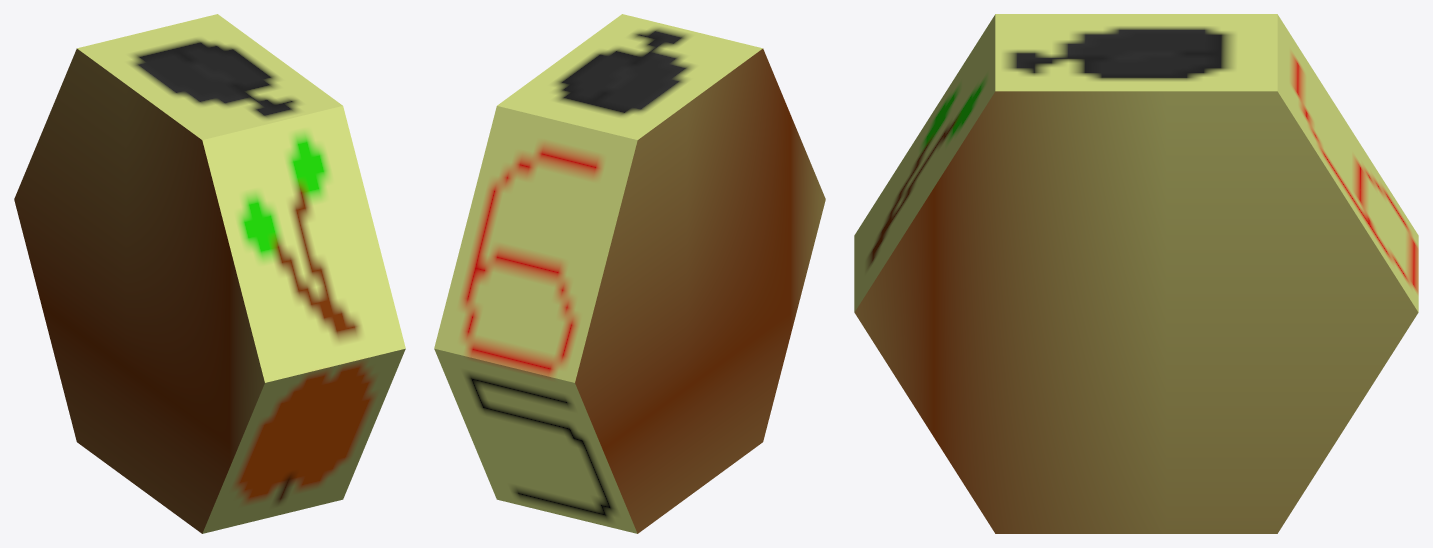
Rendered from Wheel2.fbx.
3 renders of one model, left to right at view 1: azimuth 30°, elevation 25°; view 2: azimuth 150°, elevation 25°; view 3: azimuth 270°, elevation 25°, orthographic. The views are drawn at different scales.
Visible parts, largest first — view 1: Cylinder.003; view 2: Cylinder.003; view 3: Cylinder.003.
Part boxes in pixels (bbox=[...]): Cylinder.003: bbox=[14, 14, 405, 533]; Cylinder.003: bbox=[434, 14, 825, 533]; Cylinder.003: bbox=[854, 14, 1418, 533].
Bounding box in the file's own units: 64.83 × 173 × 200.
